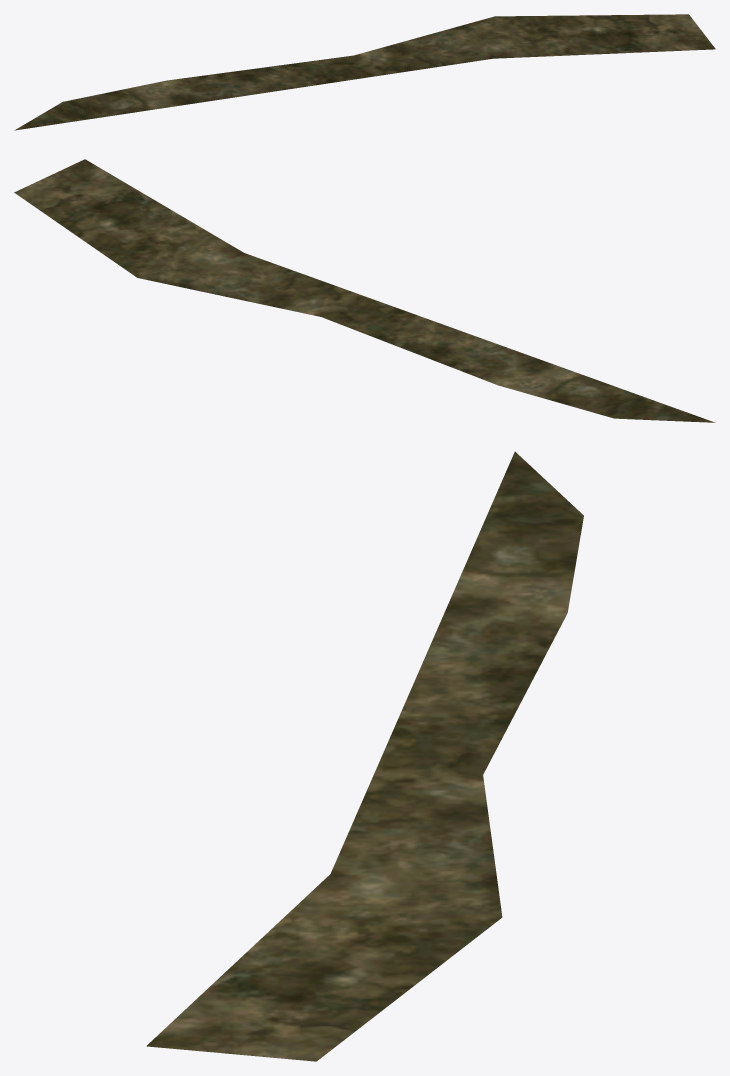
File: CB_NEWPLAYSURFACE_CB_PLAYSURFACE116.obj
3 renders of one model, top to bottom at view 1: azimuth 30°, elevation 25°; view 2: azimuth 150°, elevation 25°; view 3: azimuth 270°, elevation 25°, orthographic. The views are drawn at different scales.
Visible parts, largest first — view 1: _playsurface116; view 2: _playsurface116; view 3: _playsurface116.
Part boxes in pixels (left/top/right/bottom): _playsurface116: left=14, top=14, right=715, bottom=130; _playsurface116: left=14, top=159, right=715, bottom=422; _playsurface116: left=146, top=451, right=583, bottom=1061.
Bounding box in the file's own units: 2263 × 3.05e-05 × 686.
